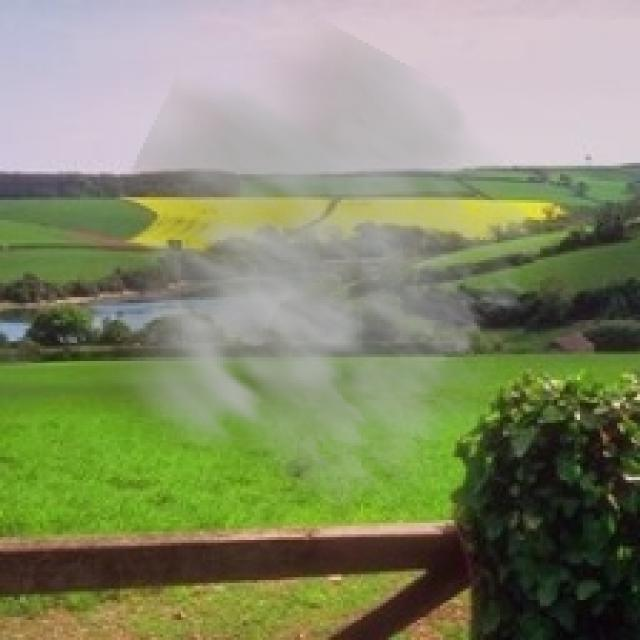Smoke: (37, 11, 560, 532)
